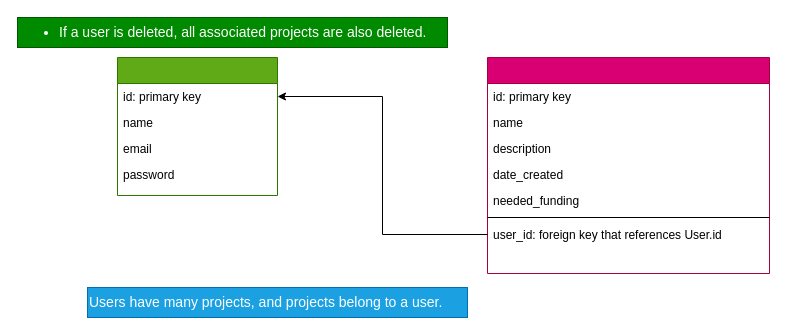
The diagram is 787 pixels wide and 335 high, and some of its shapes have lost their labels. The box of each missing label's shape, as (x1, y1, x2, y2) in pixels:
Project: (486, 56, 770, 274)
User: (116, 56, 278, 196)
